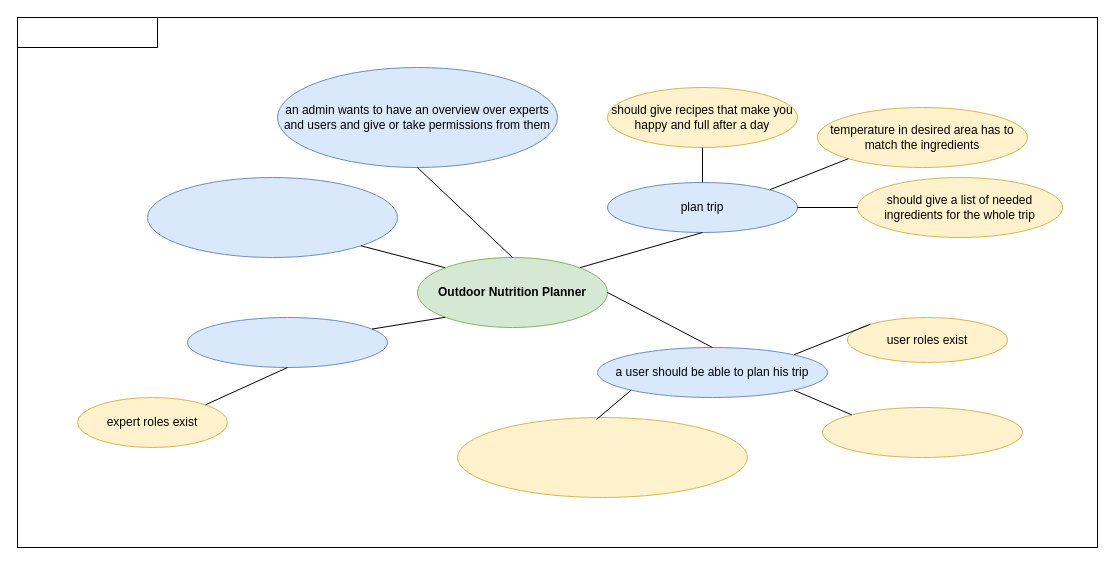
This 1115x565 diagram has some shape labels left out. Each missing label, with the centre of its shape:
"Brainstorming" belongs at [87,32].
"experts can upload recipes to the platform" belongs at [287,342].
"if a user is vegetarian or vegan this should be adjustable" belongs at [602,457].
"ingredients used in multiple recipes should add each other up for the filal list" belongs at [272,217].
"searches and results can be saved" belongs at [922,432].
